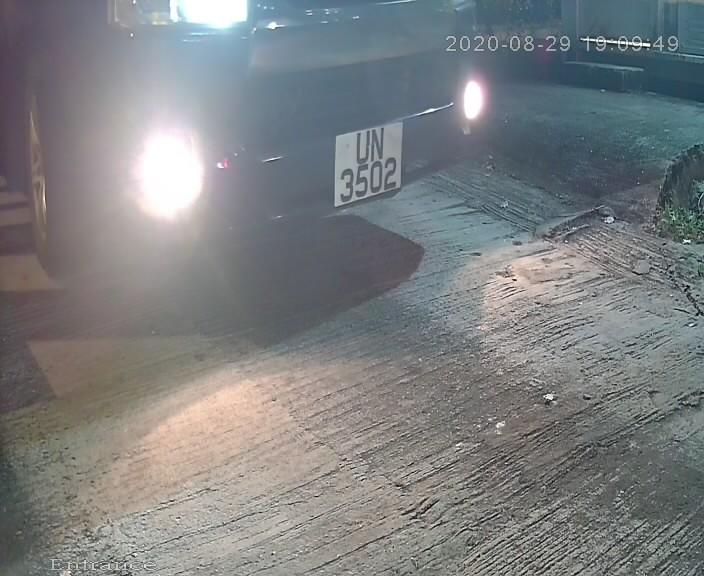License Plate: (318, 103, 415, 219)
